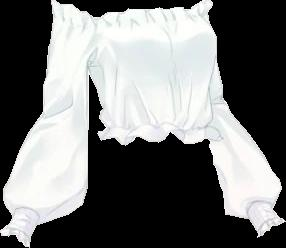Bodice: (88, 7, 221, 144)
Neckline: (88, 7, 189, 18), (106, 124, 214, 132)
Sleeve: (187, 0, 285, 237), (0, 0, 89, 247)
Sleeveline: (12, 207, 42, 225), (246, 201, 274, 219), (255, 216, 278, 231), (7, 224, 33, 237), (86, 13, 89, 75)
Waistline: (97, 131, 222, 144)
